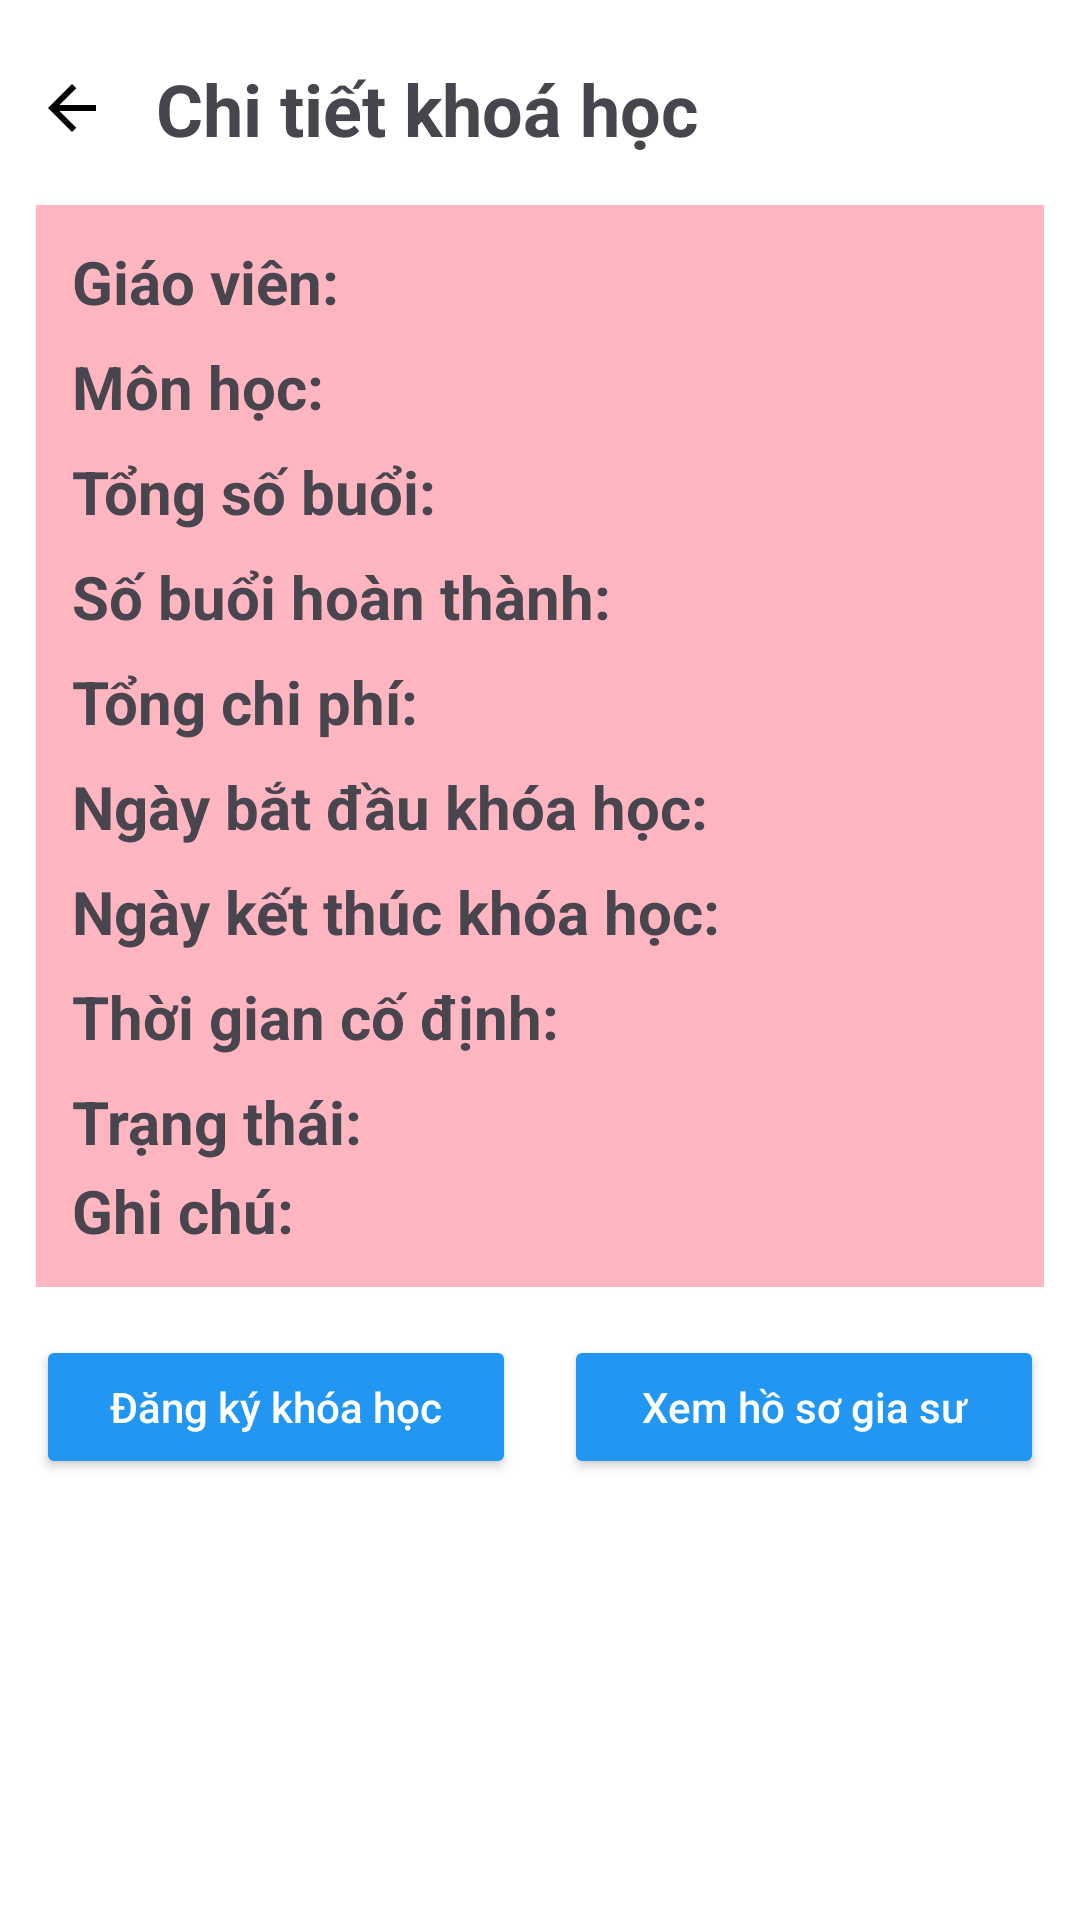

Locate icon controls on the screen. Image size 1080×1920, boxes as region(x1, y1, x2, y2).
Quay lại: region(48, 84, 96, 132)
